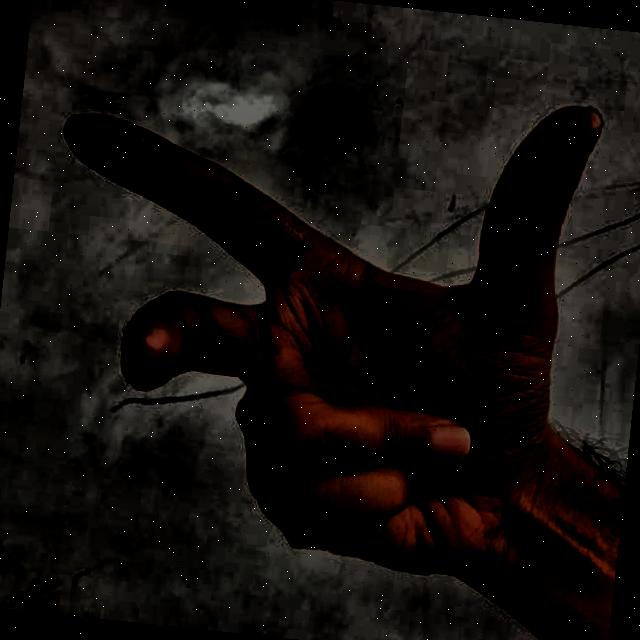Da: (0, 8, 639, 640)
